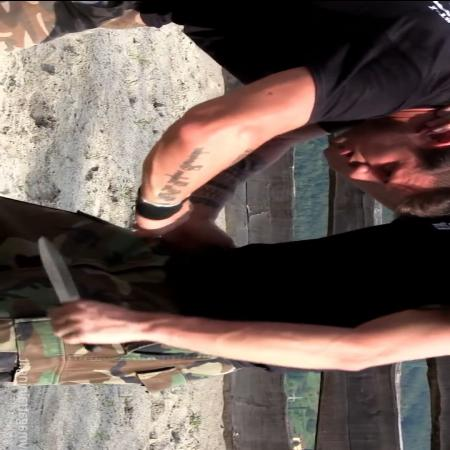long weapon: (27, 230, 112, 356)
